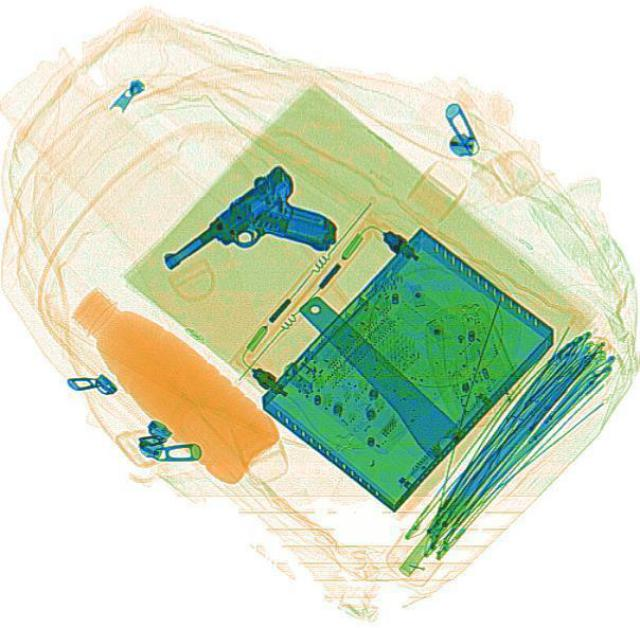Gun: (154, 157, 348, 328)
